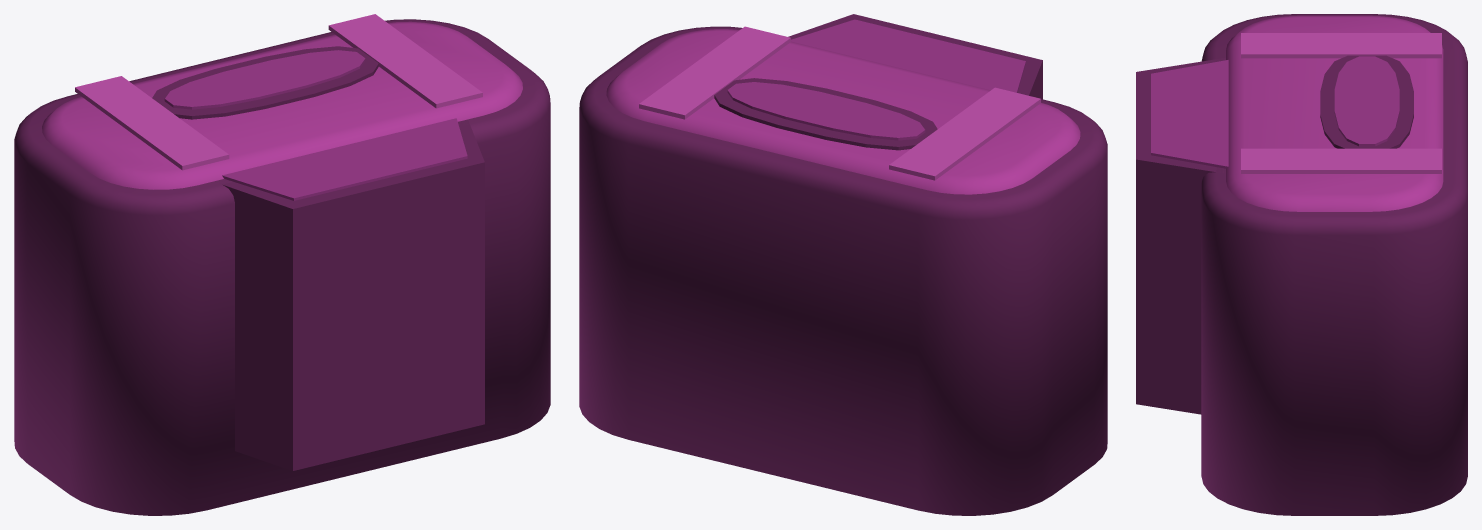
Rendered from bag_padrao_rosa.fbx.
The picture shows the model from 3 angles, left to right: view 1: azimuth 30°, elevation 25°; view 2: azimuth 150°, elevation 25°; view 3: azimuth 270°, elevation 25°; orthographic projection. The views are drawn at different scales.
Visible parts, largest first — view 1: bag_padrao_rosa_mochila; view 2: bag_padrao_rosa_mochila; view 3: bag_padrao_rosa_mochila.
Part boxes in pixels (x1,y1,x2,y2): bag_padrao_rosa_mochila: (14, 14, 550, 515); bag_padrao_rosa_mochila: (579, 14, 1107, 515); bag_padrao_rosa_mochila: (1136, 14, 1467, 515).
Bounding box in the file's own units: 2.8 × 1.9 × 1.84.
Materials: 1 (1 with a texture image).
